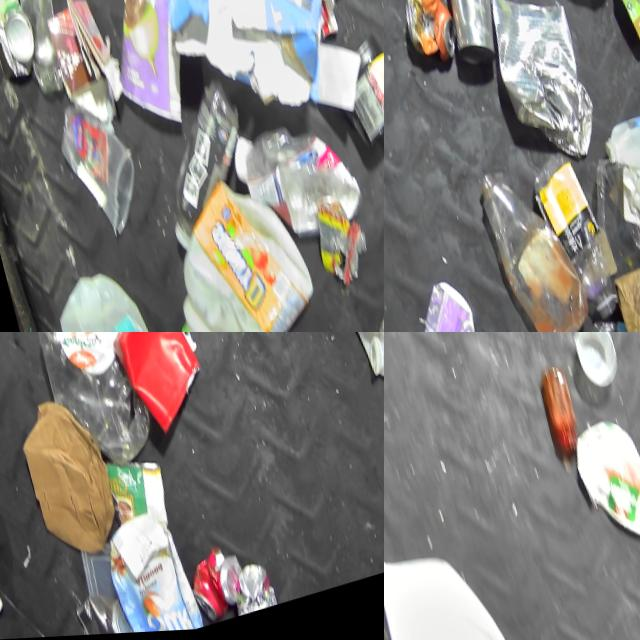can: (20, 332, 169, 486), (480, 0, 603, 176), (332, 31, 384, 153), (182, 545, 248, 629), (436, 0, 504, 73), (396, 0, 462, 73), (71, 588, 139, 638), (226, 564, 276, 621), (0, 0, 39, 68)
milk_jug: (146, 161, 327, 332), (384, 526, 537, 640), (47, 259, 166, 332), (598, 99, 640, 183)
non_white_jug: (145, 0, 345, 140), (96, 503, 202, 637), (278, 0, 376, 46), (595, 0, 640, 55)
plastic_bottle: (473, 154, 597, 332), (226, 106, 366, 254), (524, 148, 618, 332), (2, 0, 78, 100)
